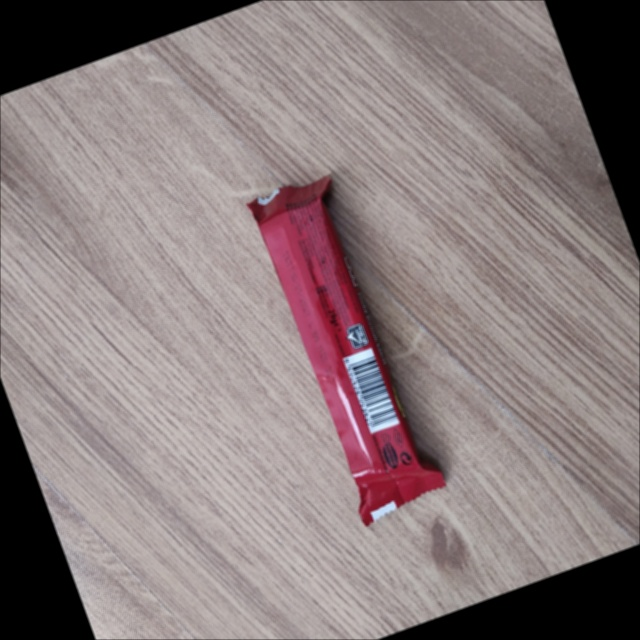eti_hosbes_gofret: (250, 177, 444, 523)
